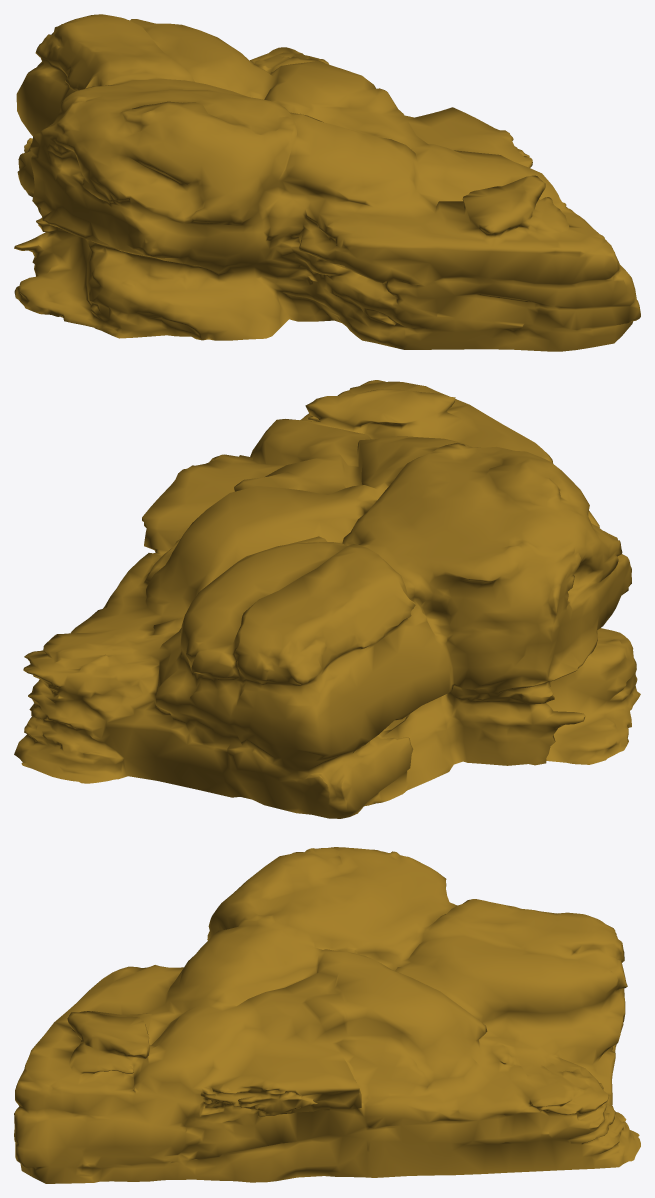
The model's file is MSH_Rocks_Boulder_16.FBX.
3 views of the same model, one above another, from view 1: azimuth 30°, elevation 25°; view 2: azimuth 150°, elevation 25°; view 3: azimuth 270°, elevation 25° (orthographic). The views are drawn at different scales.
Visible parts, largest first — view 1: MESH_LOD0; view 2: MESH_LOD0; view 3: MESH_LOD0.
Part boxes in pixels (box(x1,y1,x2,y2)): MESH_LOD0: box(14, 14, 640, 351); MESH_LOD0: box(14, 380, 640, 818); MESH_LOD0: box(14, 847, 640, 1183).
Size of what is drawn, in the model's own units: 102 by 43.45 by 134.
